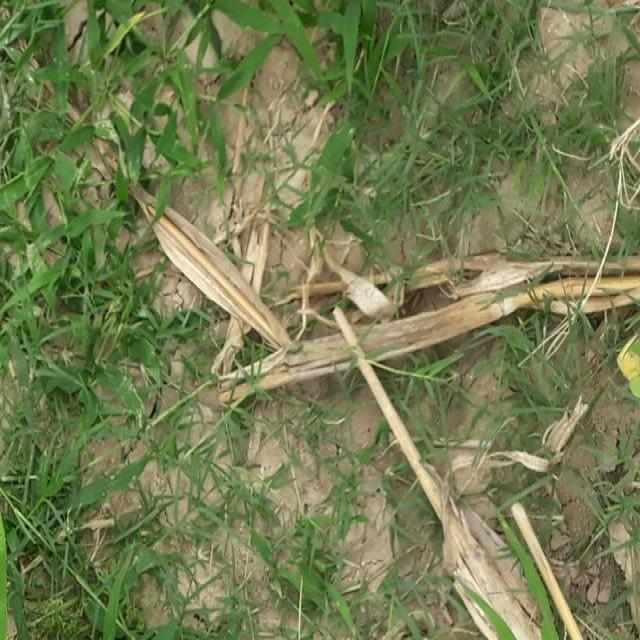weed: (7, 14, 141, 388), (262, 12, 538, 182), (284, 144, 530, 251), (23, 428, 147, 640), (156, 416, 262, 640), (146, 0, 255, 186), (490, 312, 586, 423), (266, 541, 358, 640), (499, 516, 556, 640), (276, 388, 356, 464), (582, 456, 640, 556), (562, 68, 623, 151), (134, 298, 198, 372), (554, 0, 635, 57), (382, 560, 436, 624), (322, 454, 367, 530), (464, 581, 518, 640), (404, 362, 462, 416), (536, 142, 568, 204)
